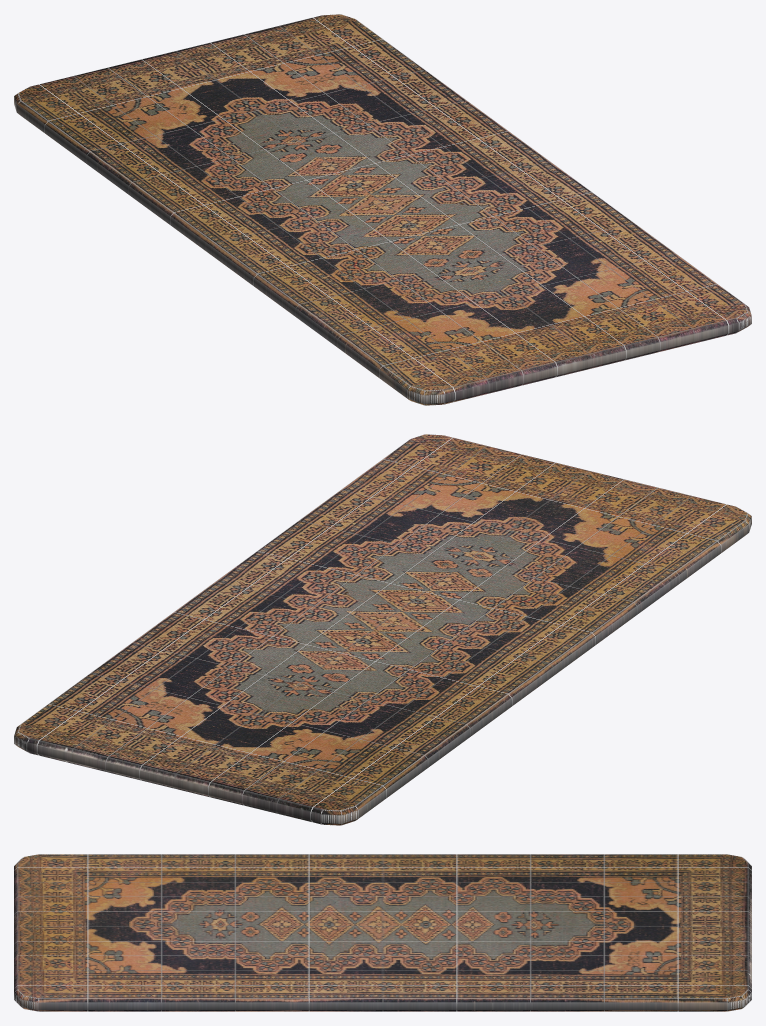
The model's file is flying-carpet.fbx.
3 views of the same model, one above another, from view 1: azimuth 30°, elevation 25°; view 2: azimuth 150°, elevation 25°; view 3: azimuth 270°, elevation 25° (orthographic). The views are drawn at different scales.
Parts seen in each view (by area): view 1: Carpet; view 2: Carpet; view 3: Carpet.
Part boxes in pixels (x1,y1,x2,y2): Carpet: (14, 14, 751, 405); Carpet: (14, 434, 751, 825); Carpet: (14, 854, 751, 1011).
Size of the model in its own units: 5.56 by 0.2341 by 11.77.
1 material, 1 textured.
